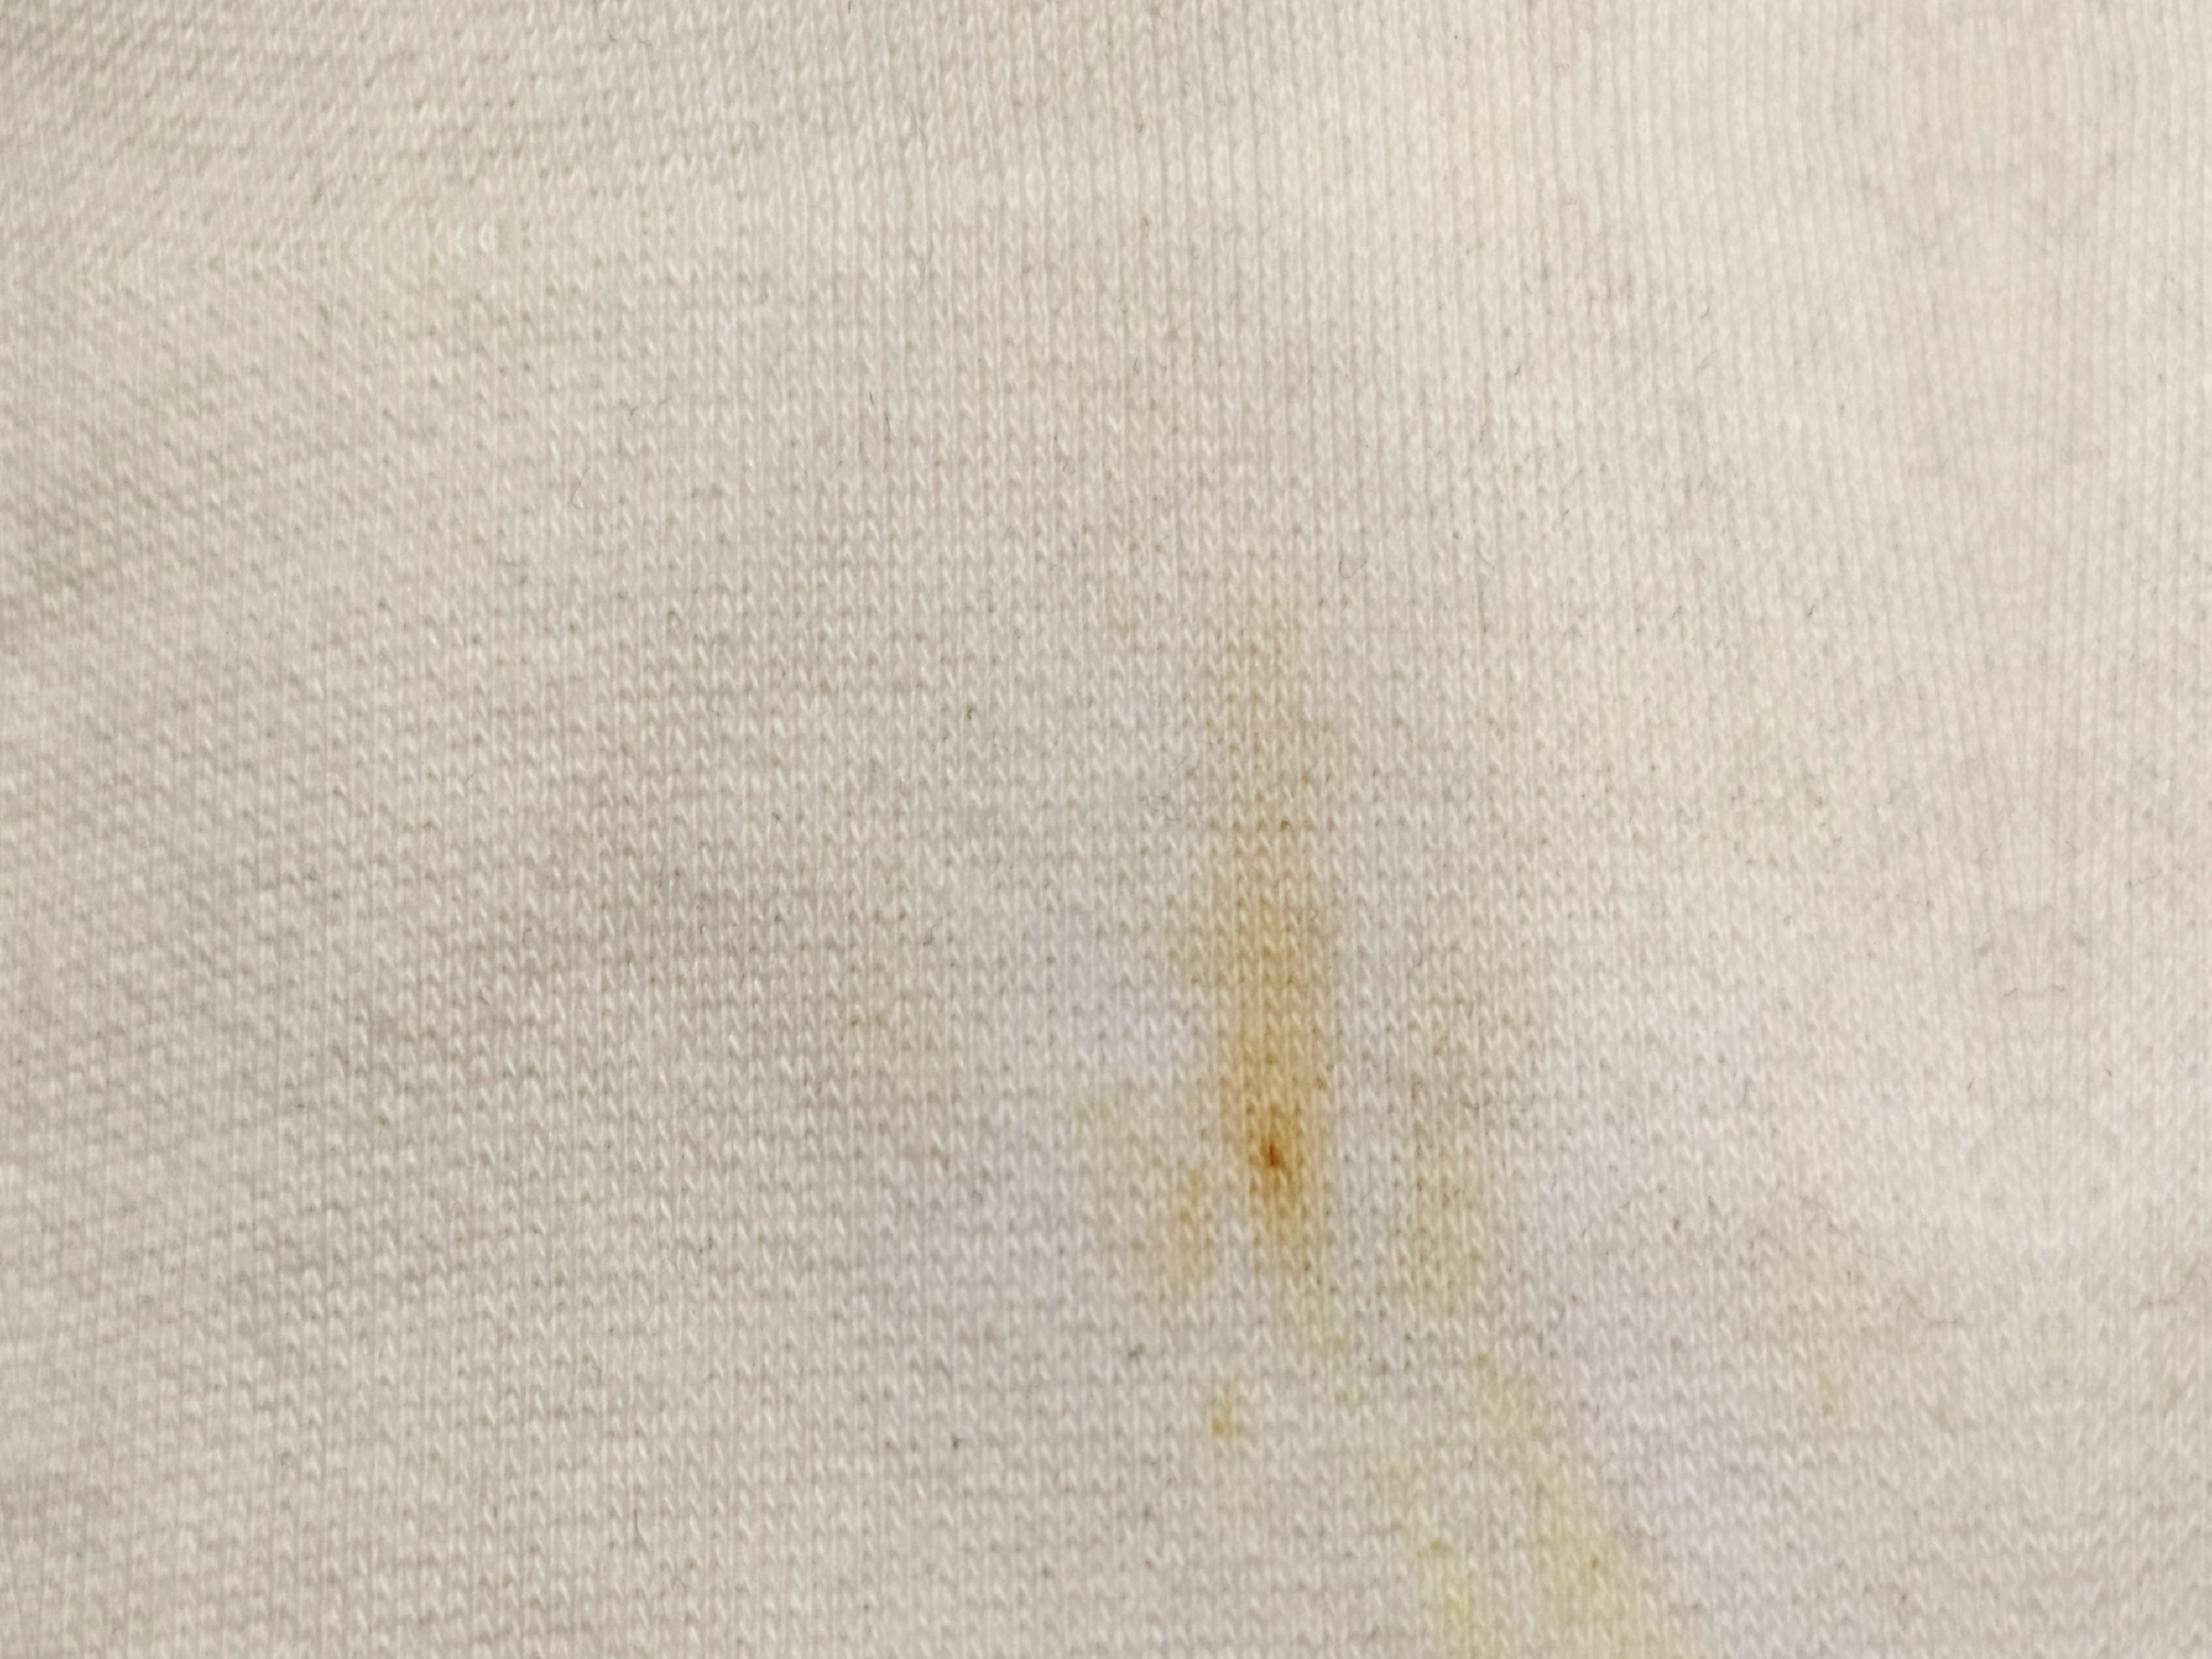stain: (1207, 887, 1341, 1251)
